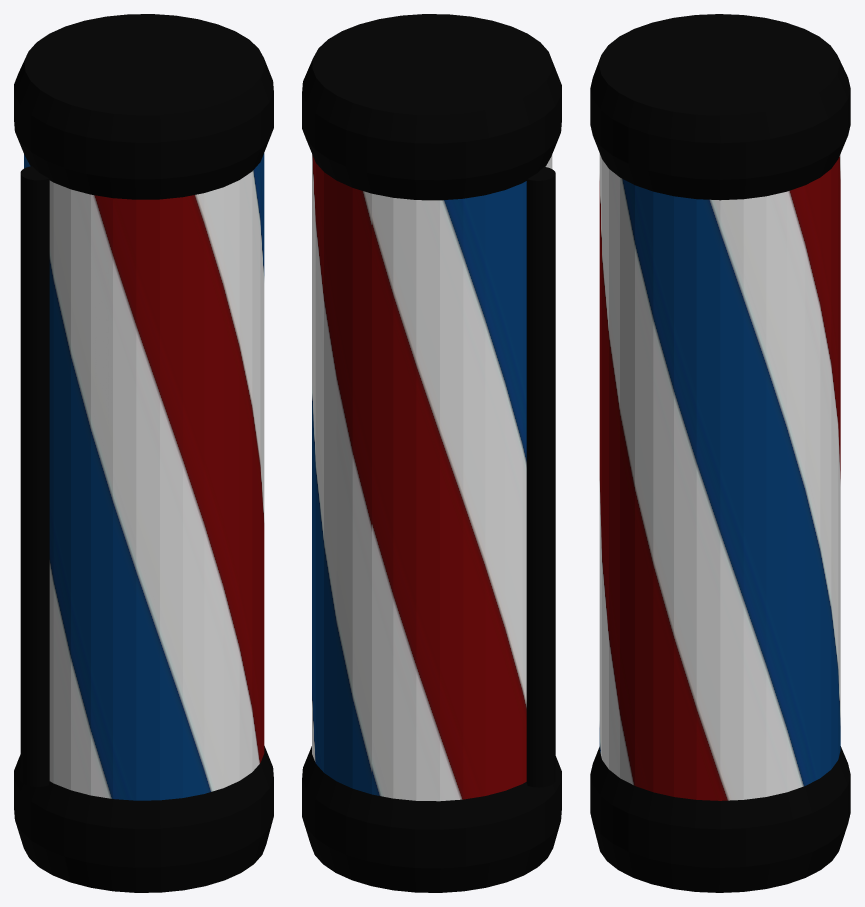
Rendered from light.glb.
3 views of the same model, side by side, from view 1: azimuth 30°, elevation 25°; view 2: azimuth 150°, elevation 25°; view 3: azimuth 270°, elevation 25° (orthographic).
Parts seen in each view (by area): view 1: Cylinder, Cylinder.001; view 2: Cylinder, Cylinder.001; view 3: Cylinder.
Part boxes in pixels (x1,y1,x2,y2): Cylinder: (14, 14, 273, 892); Cylinder.001: (20, 166, 49, 786); Cylinder: (302, 14, 561, 892); Cylinder.001: (526, 166, 555, 787); Cylinder: (590, 14, 850, 892).
Bounding box in the file's own units: 2.24 × 7.12 × 2.16.
3 materials, 1 textured.
